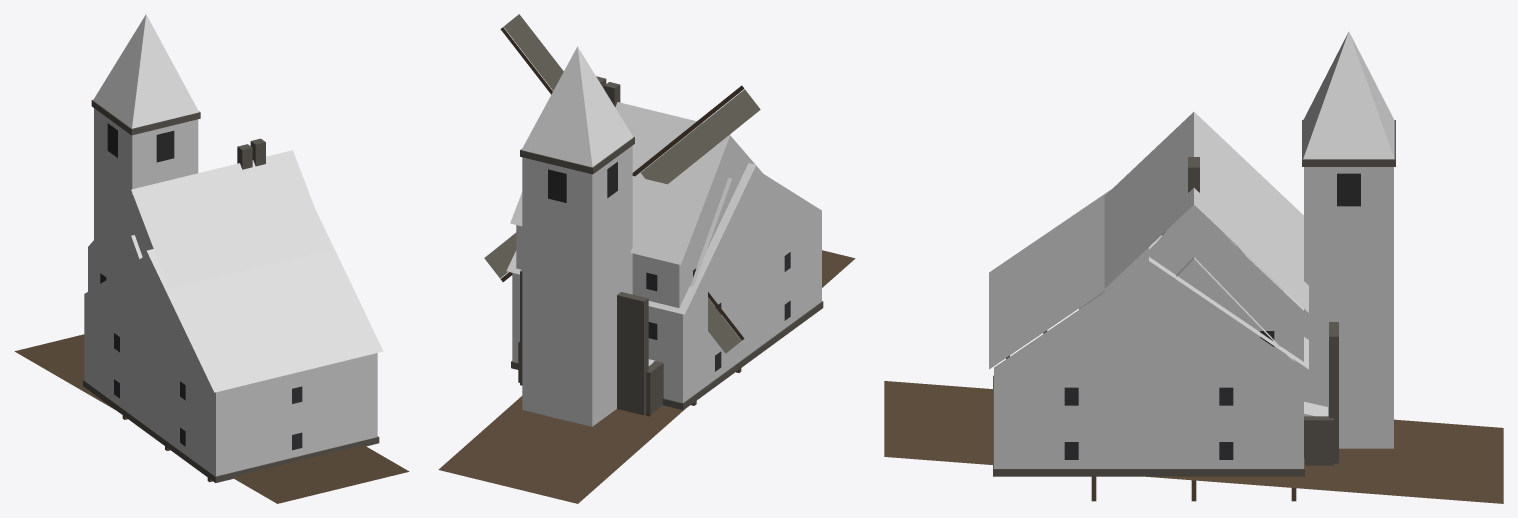
The model's file is rocky.glb.
3 views of the same model, side by side, from view 1: azimuth 30°, elevation 25°; view 2: azimuth 150°, elevation 25°; view 3: azimuth 270°, elevation 25° (orthographic). The views are drawn at different scales.
Parts seen in each view (by area): view 1: church, merchants-house, shipyard-slip; view 2: church, merchants-house, shipyard-slip, windmill, chapel-ruin, warehouse; view 3: church, merchants-house, shipyard-slip, chapel-ruin.
Part boxes in pixels (box(x1,y1,x2,y2)): church: box(83, 14, 383, 482); merchants-house: box(88, 138, 330, 291); shipyard-slip: box(14, 334, 409, 503); church: box(506, 46, 823, 426); merchants-house: box(510, 76, 763, 406); shipyard-slip: box(438, 250, 855, 503); windmill: box(484, 14, 760, 353); chapel-ruin: box(518, 270, 663, 415); warehouse: box(690, 177, 731, 286); church: box(989, 31, 1395, 476); merchants-house: box(1079, 112, 1327, 416); shipyard-slip: box(884, 330, 1503, 503); chapel-ruin: box(1304, 322, 1338, 465).
Size of the model in its own units: 17.82 by 24.5 by 31.
